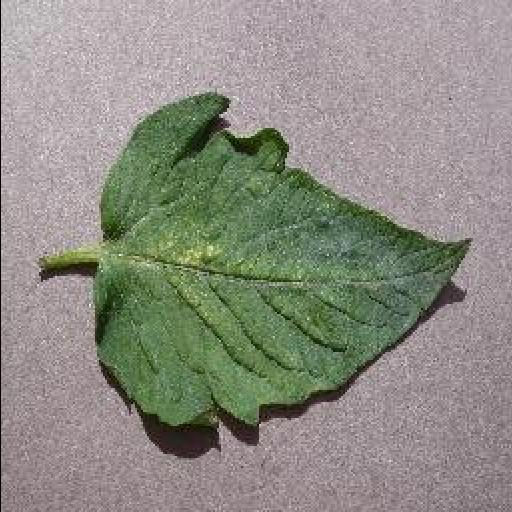disease_tomato: (93, 93, 475, 427)
